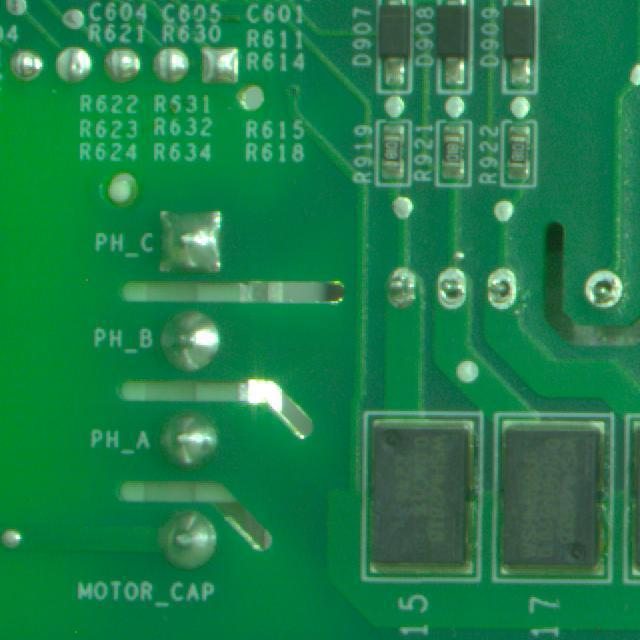Insufficient solder: (578, 263, 627, 317), (482, 265, 522, 317), (431, 265, 472, 314)
